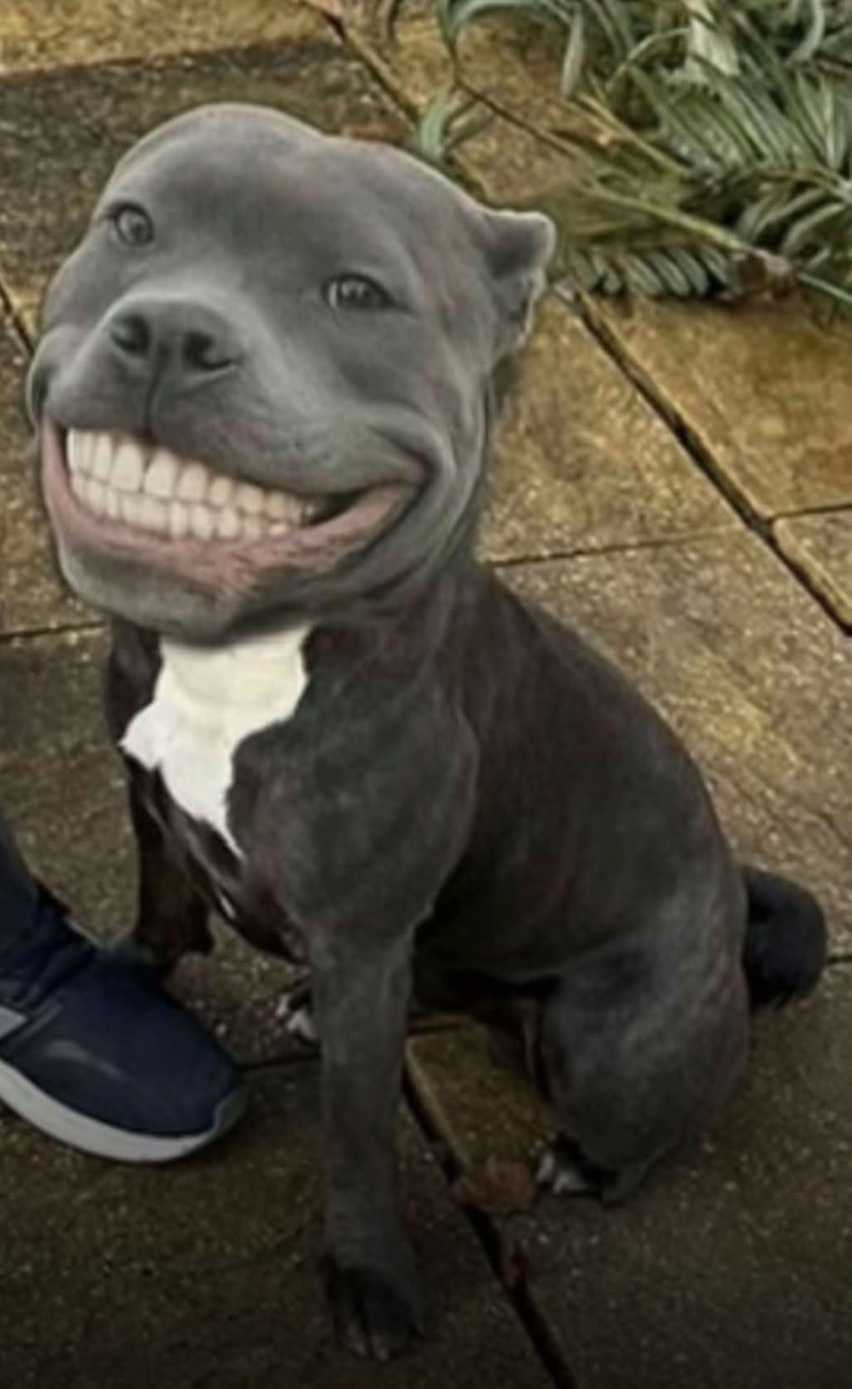adult_dog: (27, 99, 833, 1365)
